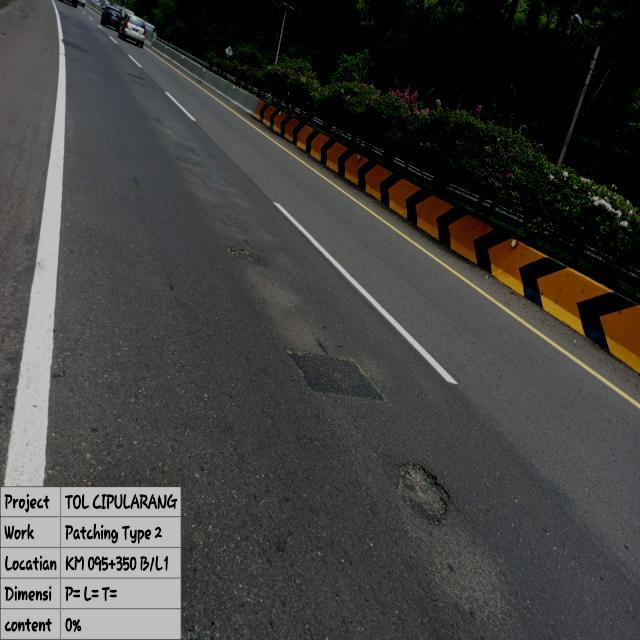Buraco: (390, 459, 455, 526), (224, 243, 262, 268), (123, 70, 150, 83)
